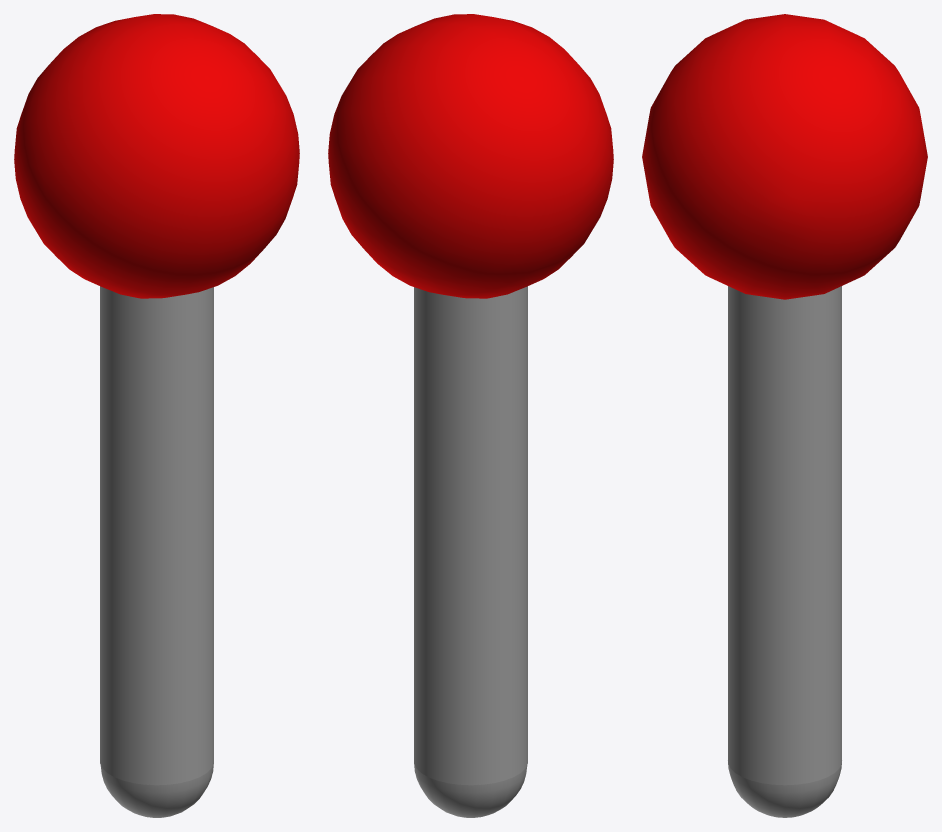
Rendered from Controller Handle.fbx.
3 renders of one model, left to right at view 1: azimuth 30°, elevation 25°; view 2: azimuth 150°, elevation 25°; view 3: azimuth 270°, elevation 25°, orthographic.
Parts seen in each view (by area): view 1: polySurface1; view 2: polySurface1; view 3: polySurface1.
Boxes of the visible parts, x1,y1,x2,y2 form: polySurface1: (14,14,299,817); polySurface1: (328,14,613,817); polySurface1: (642,14,927,817).
Size of the model in its own units: 1.25 by 3.79 by 1.25.
